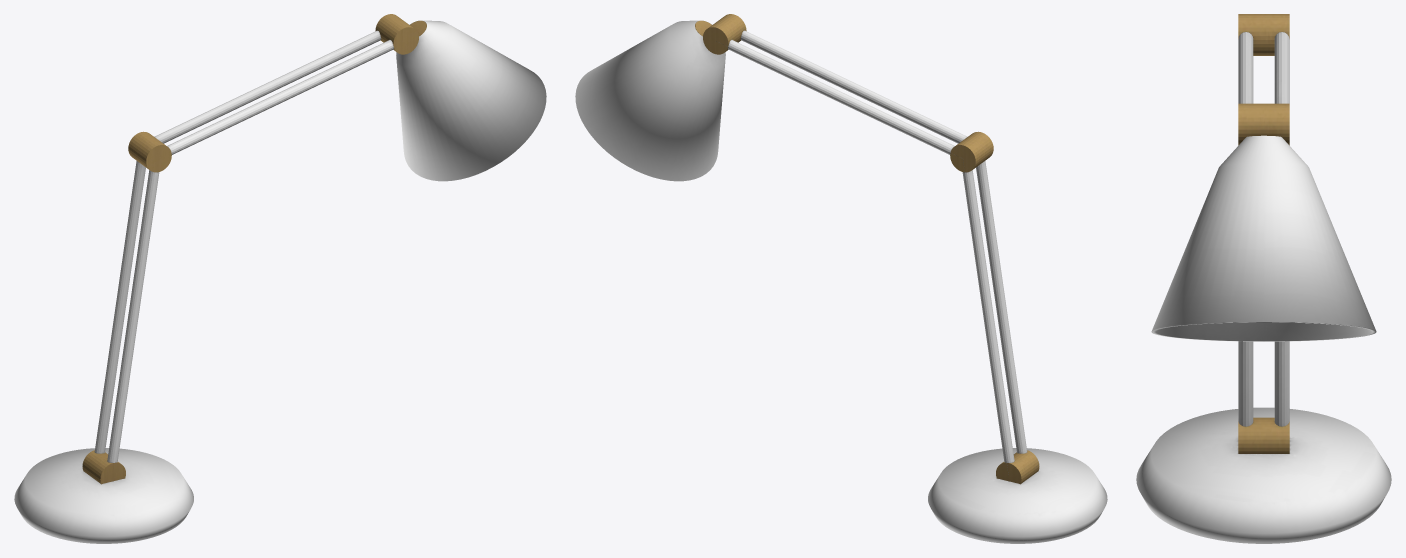
The model's file is desk-black.glb.
3 renders of one model, left to right at view 1: azimuth 30°, elevation 25°; view 2: azimuth 150°, elevation 25°; view 3: azimuth 270°, elevation 25°, orthographic. The views are drawn at different scales.
Parts seen in each view (by area): view 1: paint_primary_lamp, brass; view 2: paint_primary_lamp, brass; view 3: paint_primary_lamp, brass.
Boxes of the visible parts, <box> form: paint_primary_lamp: <box>14,20,546,543</box>; brass: <box>82,14,426,484</box>; paint_primary_lamp: <box>575,20,1107,543</box>; brass: <box>695,14,1039,484</box>; paint_primary_lamp: <box>1136,32,1391,543</box>; brass: <box>1238,14,1289,453</box>.
Bounding box in the file's own units: 0.555 × 0.434 × 0.17.
Materials: 3 (2 with a texture image).
